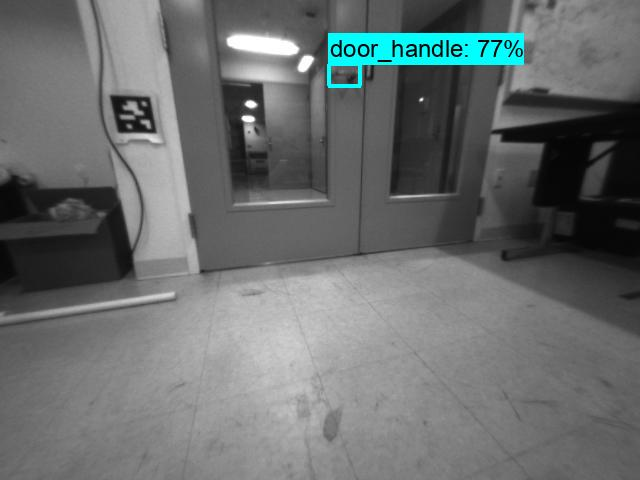door_handle: (329, 66, 363, 87)
